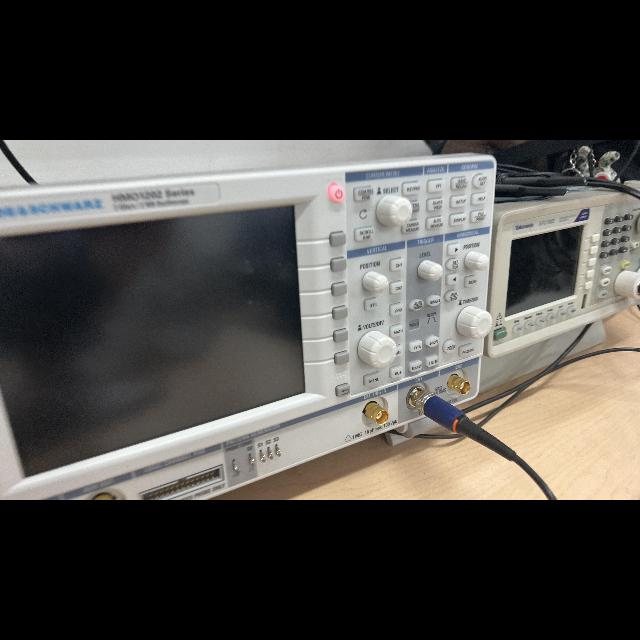Digital-Oscilloscope: (0, 141, 495, 499)
